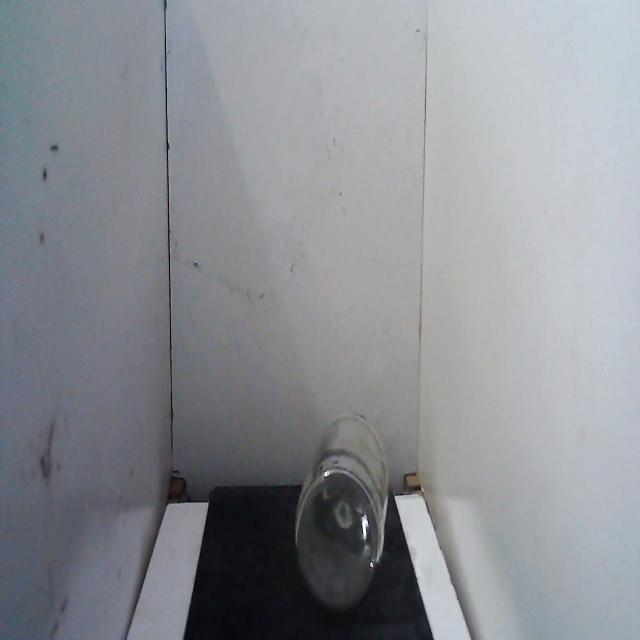vidro: (291, 404, 395, 625)
